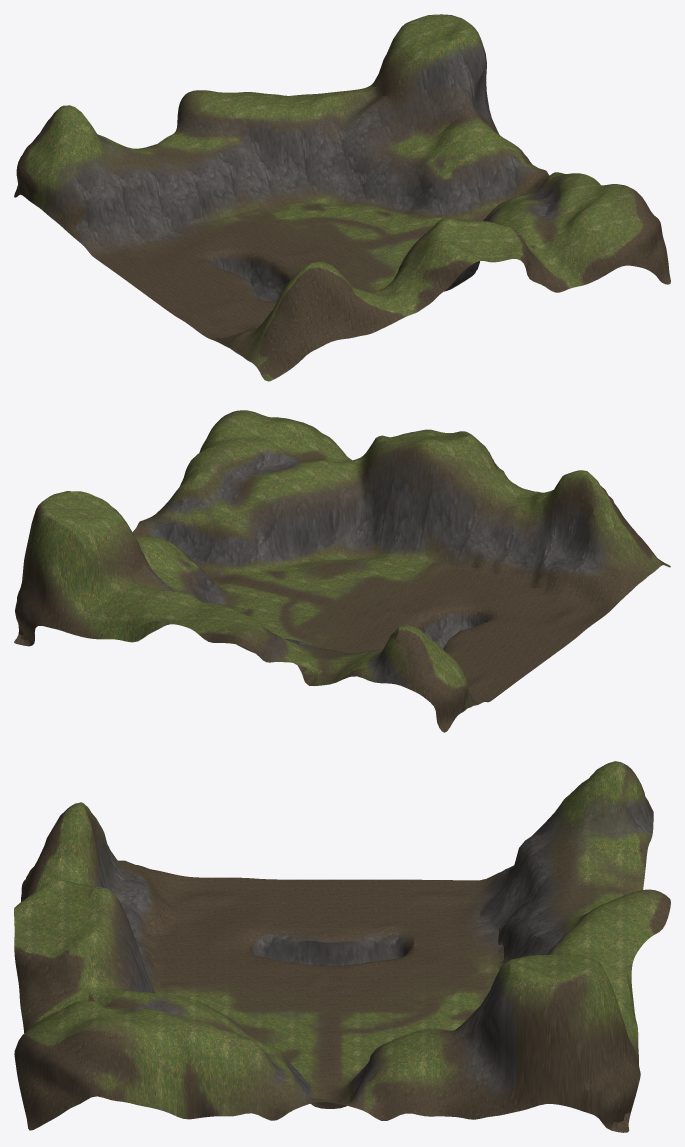
Rendered from Terrain.fbx.
3 renders of one model, top to bottom at view 1: azimuth 30°, elevation 25°; view 2: azimuth 150°, elevation 25°; view 3: azimuth 270°, elevation 25°, orthographic. The views are drawn at different scales.
Parts seen in each view (by area): view 1: Terrain; view 2: Terrain; view 3: Terrain.
Part boxes in pixels (left/top/right/bottom): Terrain: left=14, top=14, right=670, bottom=381; Terrain: left=14, top=410, right=670, bottom=732; Terrain: left=14, top=761, right=670, bottom=1132.
Size of the model in its own units: 3332 by 1084 by 3357.
Materials: 1 (1 with a texture image).
